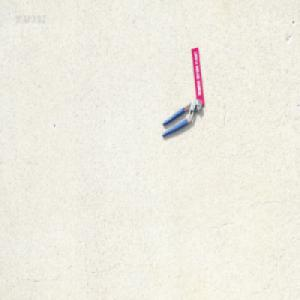Label: (191, 45, 204, 106)
Pliers: (160, 97, 202, 138)
